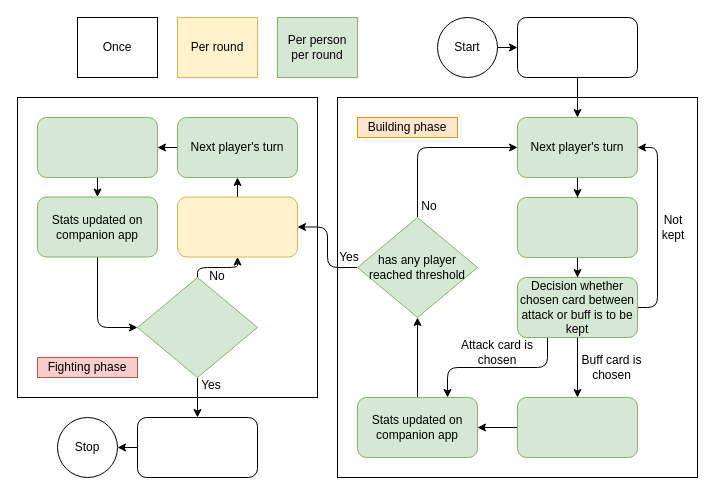
Image size: 715x495. Some labels were removed from this diagram. The shapes that lost their labels are listed below. From the top down, each one's centre as x and y in pixels, then its label:
At pixel 577 47: "Attack and buff cards shuffled; random god allotted per player".
At pixel 97 147: "Attack chosen from attack cards, multiplier from app".
At pixel 237 226: "Turn order decided by current speed stats".
At pixel 577 227: "4-sided die rolled".
At pixel 197 327: "has any player reached zero HP".
At pixel 197 447: "Player has lost".
At pixel 577 427: "If buff card is actionable, action committed".
